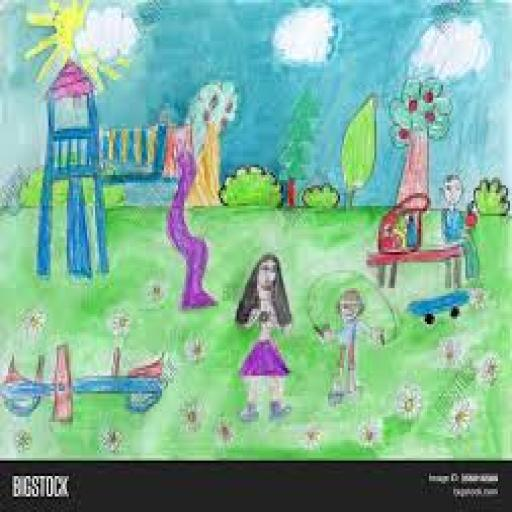person: (227, 251, 296, 427), (312, 270, 386, 410), (440, 170, 485, 298)
